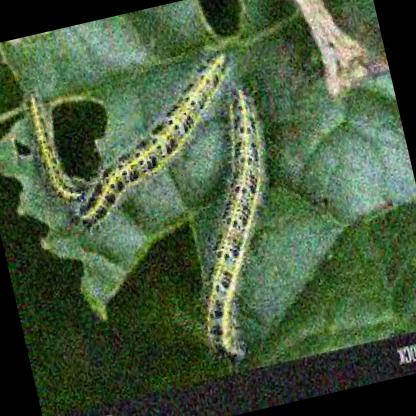pieris: (78, 46, 233, 223), (207, 88, 262, 360)
